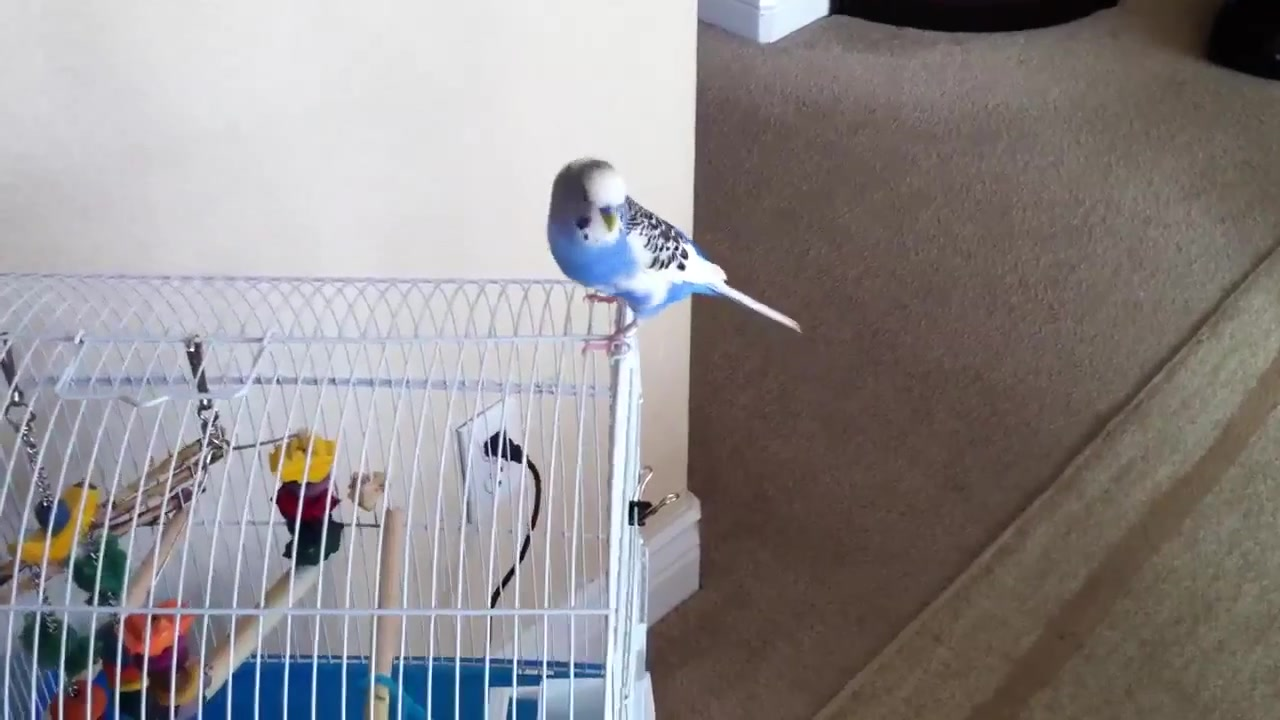bird: (548, 157, 804, 363)
